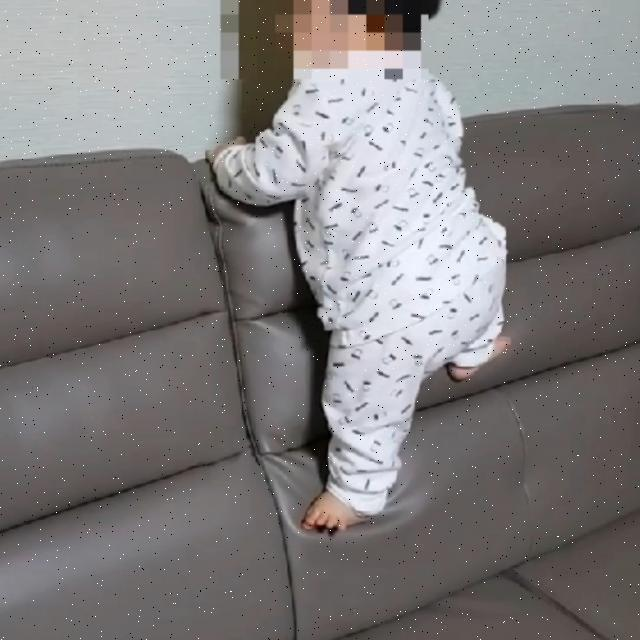child: (200, 0, 519, 532)
